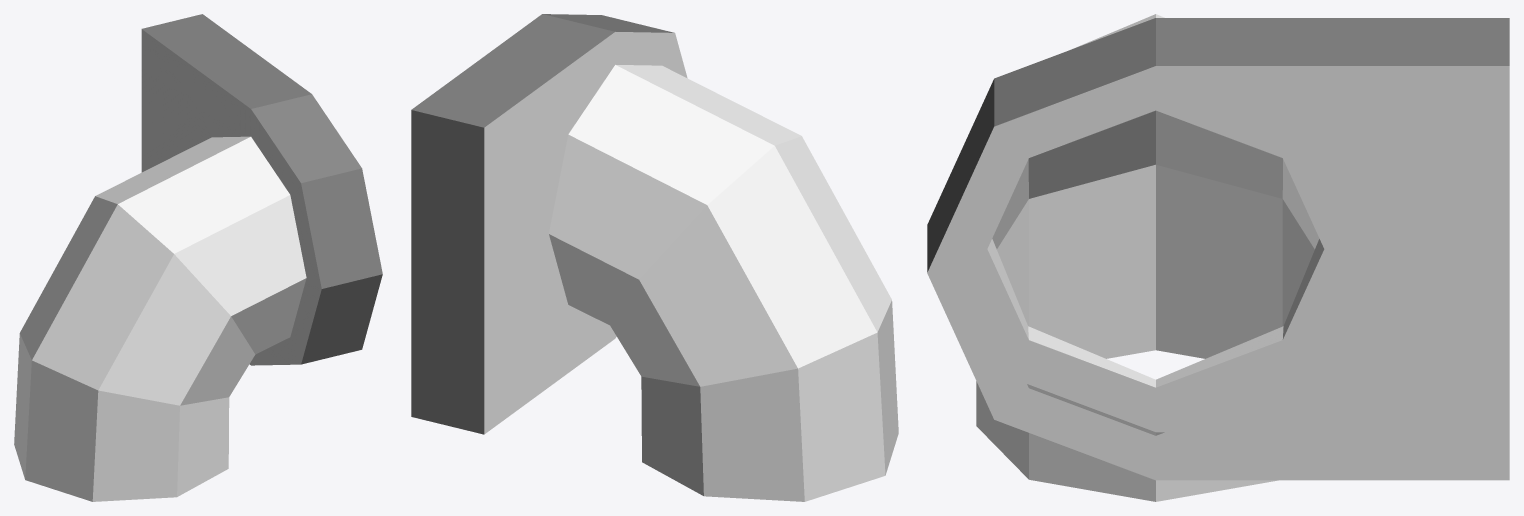
Rendered from pipeTurn.glb.
3 renders of one model, left to right at view 1: azimuth 30°, elevation 25°; view 2: azimuth 150°, elevation 25°; view 3: azimuth 270°, elevation 25°, orthographic. The views are drawn at different scales.
Parts seen in each view (by area): view 1: turn; view 2: turn; view 3: turn.
Part boxes in pixels (box(x1,y1,x2,y2)): turn: box(14, 14, 382, 501); turn: box(411, 14, 898, 501); turn: box(927, 14, 1509, 501).
Bounding box in the file's own units: 1.6 × 1.68 × 1.74.
1 material, 1 textured.
